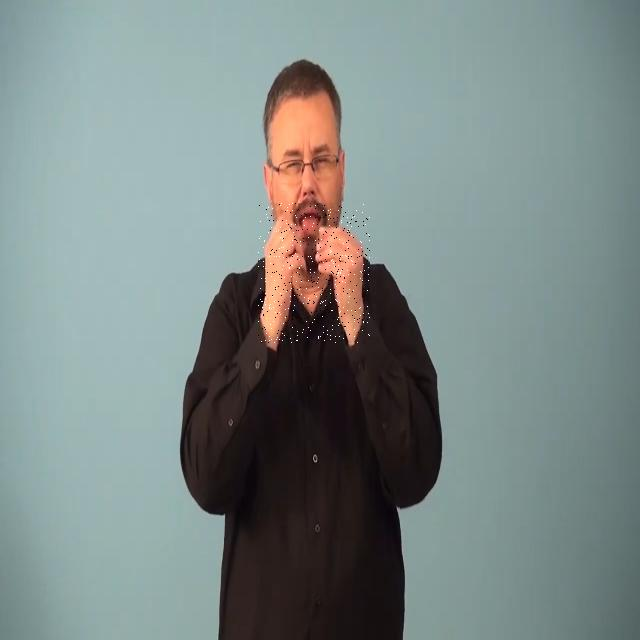juicy: (258, 204, 370, 344)
